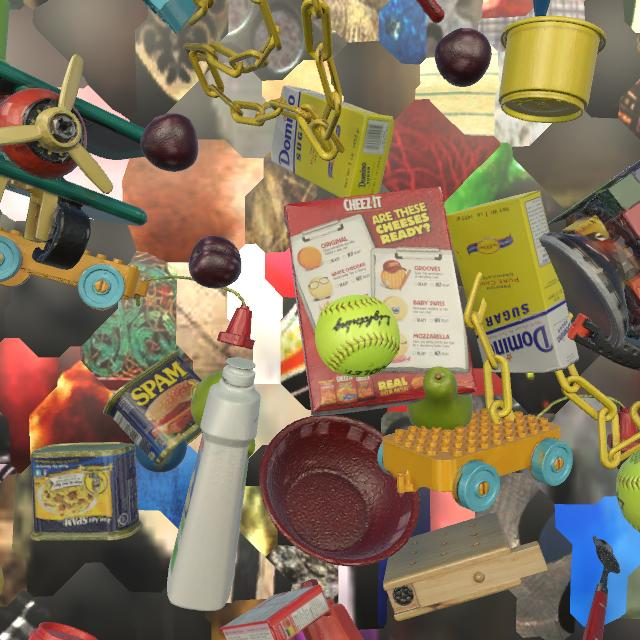ycb_003_cracker_box: (284, 187, 478, 417)
ycb_004_sugar_box: (446, 190, 579, 373), (271, 86, 394, 198)
ycb_009_gelatin_box: (220, 585, 331, 640)
ycb_010_potted_meat_can: (103, 350, 203, 466), (31, 442, 143, 541)
ycb_014_lemon: (0, 566, 4, 595)
ycb_016_pear: (190, 371, 255, 458), (407, 367, 473, 430)
ycb_018_plum: (140, 113, 198, 172), (435, 28, 492, 87), (189, 236, 242, 289)
